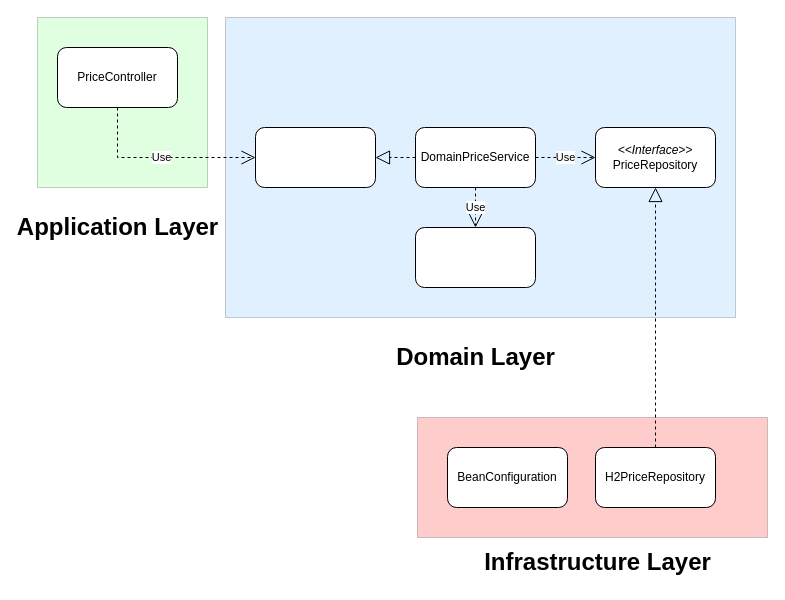
The diagram is 785 pixels wide and 600 high, and some of its shapes have lost their labels. Each missing label, with the centre of its shape:
"<<Interface>> PriceService" belongs at (315,157).
"Price" belongs at (475,257).
